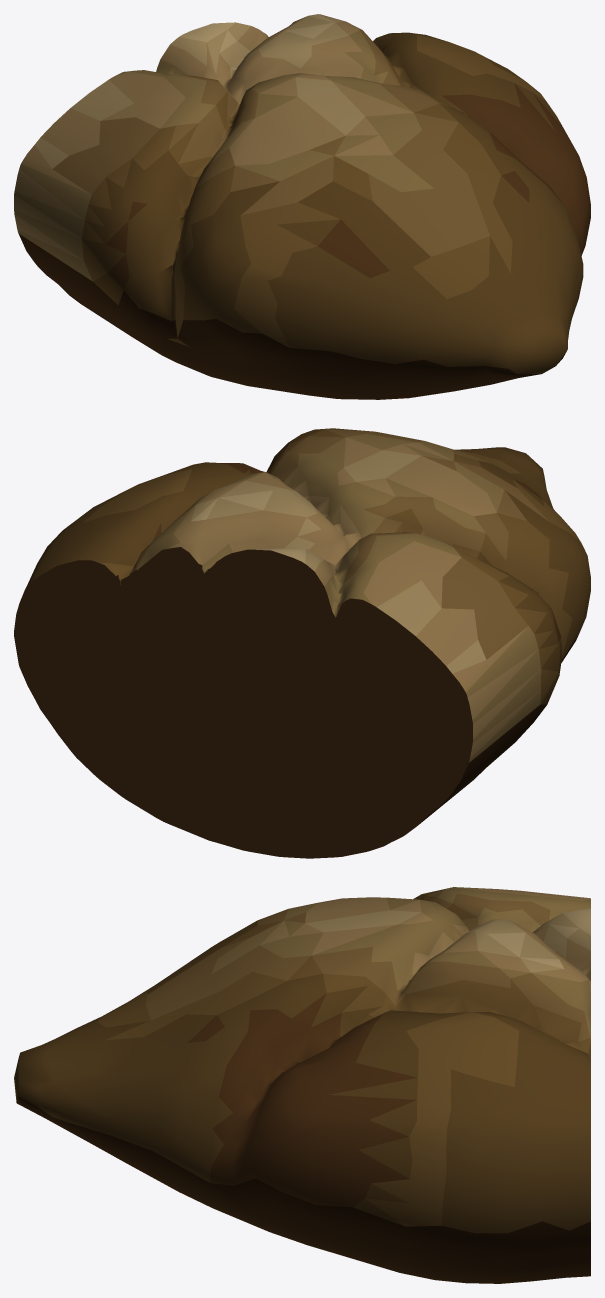
The model's file is ixm_maw_low_91.glb.
3 views of the same model, one above another, from view 1: azimuth 30°, elevation 25°; view 2: azimuth 150°, elevation 25°; view 3: azimuth 270°, elevation 25° (orthographic).
Parts seen in each view (by area): view 1: ixm_maw_low_91; view 2: ixm_maw_low_91; view 3: ixm_maw_low_91.
Boxes of the visible parts, <box> form: ixm_maw_low_91: <box>14,14,590,399</box>; ixm_maw_low_91: <box>14,428,590,858</box>; ixm_maw_low_91: <box>14,887,590,1283</box>.
Size of the model in its own units: 16.93 by 10.7 by 17.57.
